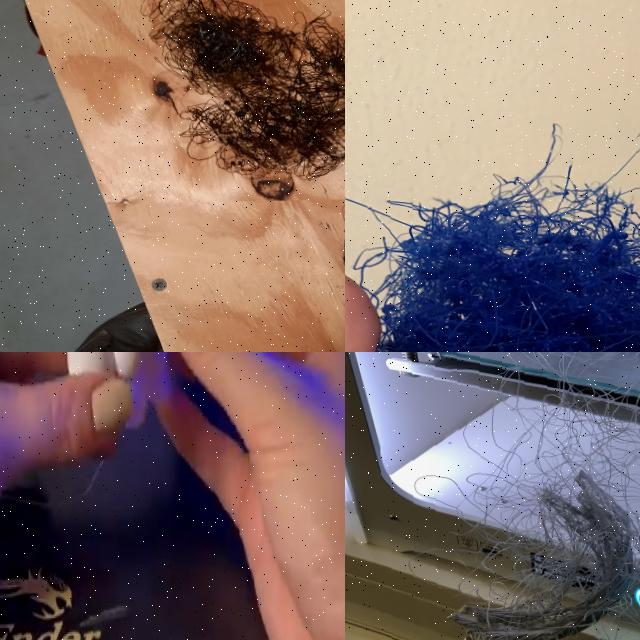spaghetti: (376, 352, 640, 640), (345, 117, 640, 352), (114, 0, 345, 202)
